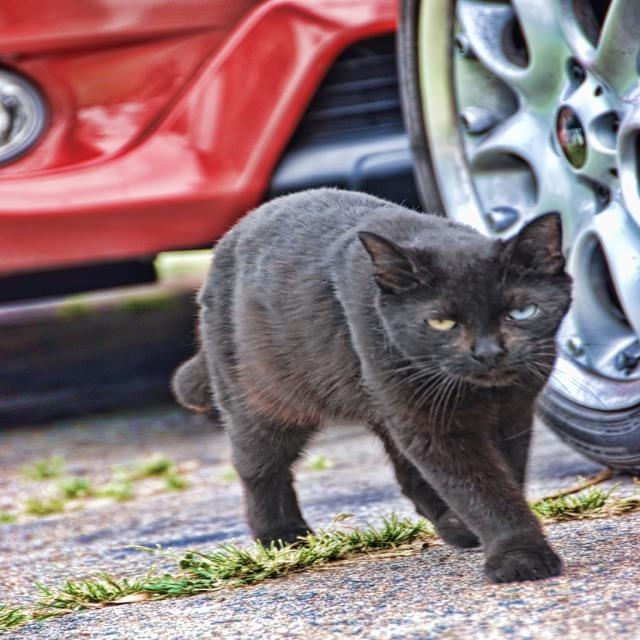Cat: (162, 184, 587, 584)
